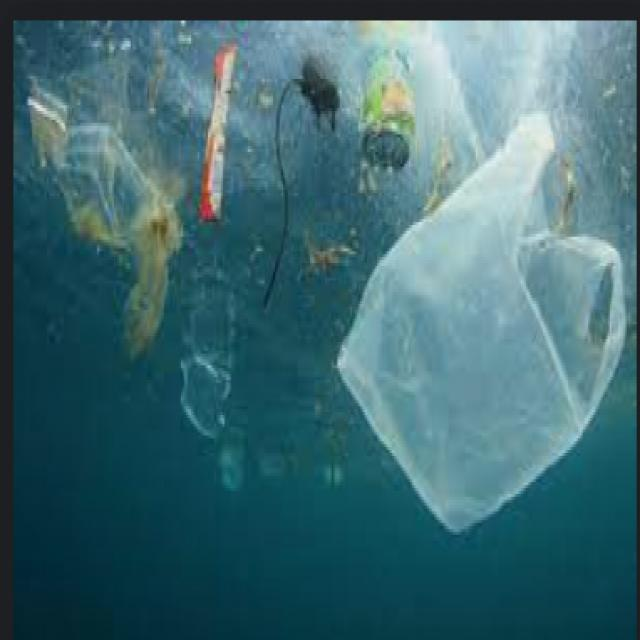Recycle: (330, 104, 628, 527), (178, 347, 250, 502)
Trash: (26, 95, 184, 358), (265, 48, 344, 308), (358, 48, 418, 170), (200, 45, 237, 224)
